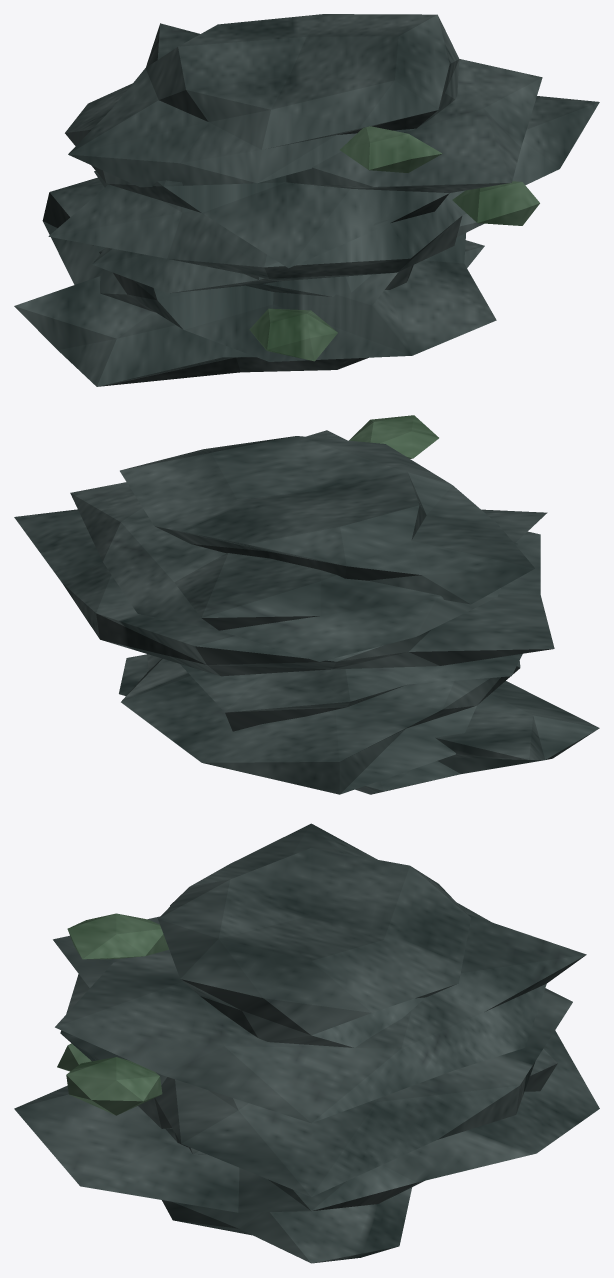
Rendered from 0040_layered_rock_15.glb.
3 renders of one model, top to bottom at view 1: azimuth 30°, elevation 25°; view 2: azimuth 150°, elevation 25°; view 3: azimuth 270°, elevation 25°, orthographic. The views are drawn at different scales.
Visible parts, largest first — view 1: stone_dark, moss; view 2: stone_dark, moss; view 3: stone_dark, moss.
Boxes of the visible parts, x1=… form: stone_dark: x1=14, y1=14, x2=599, y2=386; moss: x1=249, y1=126, x2=539, y2=361; stone_dark: x1=14, y1=430, x2=599, y2=794; moss: x1=349, y1=415, x2=438, y2=458; stone_dark: x1=14, y1=823, x2=599, y2=1263; moss: x1=57, y1=913, x2=168, y2=1115.
Size of the model in its own units: 2.3 by 1.06 by 1.89.
Materials: 2 (2 with a texture image).
